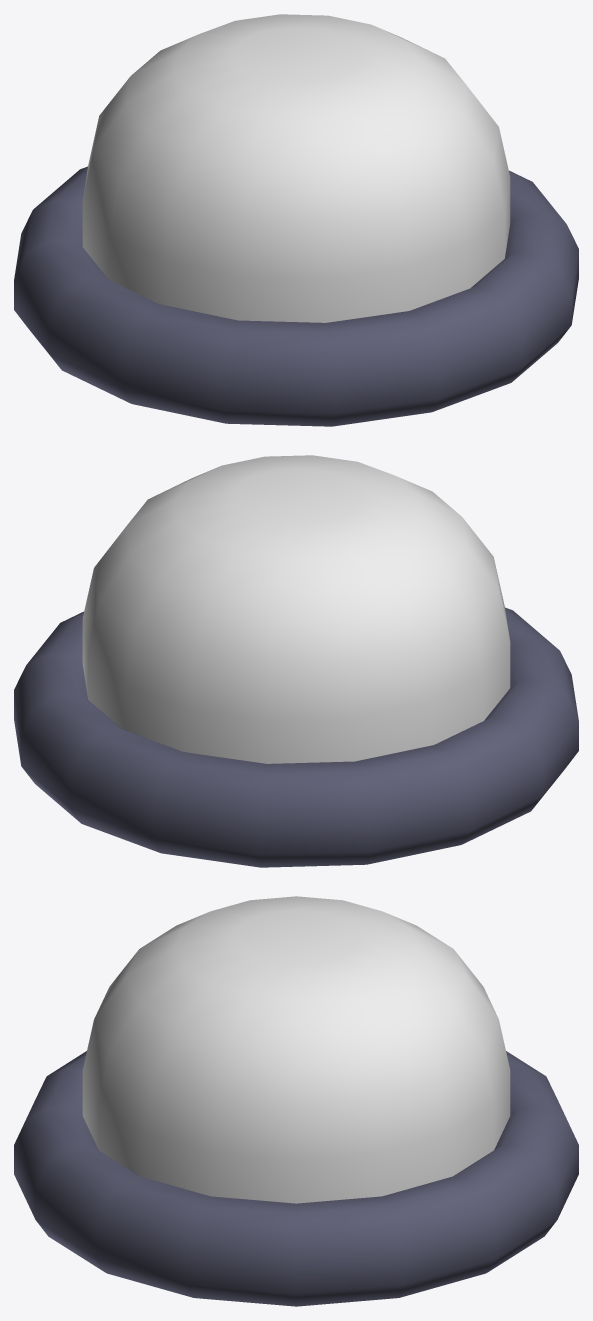
The model's file is PillarFeet.fbx.
3 views of the same model, one above another, from view 1: azimuth 30°, elevation 25°; view 2: azimuth 150°, elevation 25°; view 3: azimuth 270°, elevation 25° (orthographic).
Visible parts, largest first — view 1: Cylinder.003; view 2: Cylinder.003; view 3: Cylinder.003.
Part boxes in pixels (left/top/right/bottom): Cylinder.003: left=14, top=14, right=578, bottom=426; Cylinder.003: left=14, top=455, right=578, bottom=867; Cylinder.003: left=14, top=896, right=578, bottom=1306.
Bounding box in the file's own units: 1402 × 699 × 1402.
